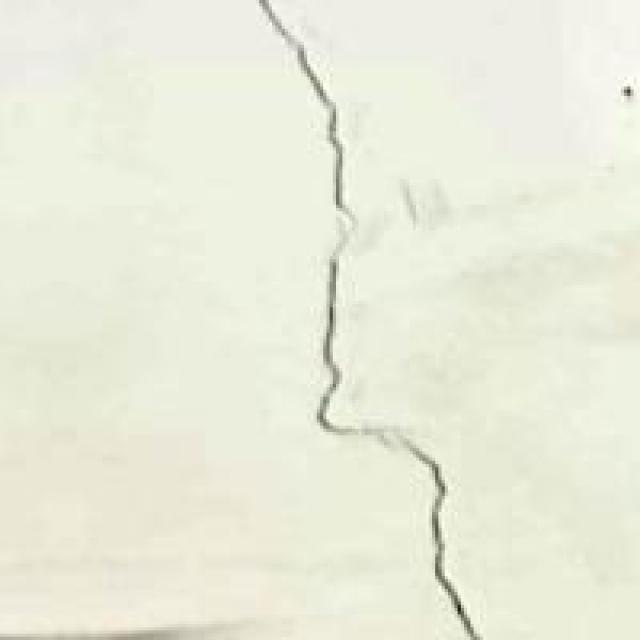crack: (250, 0, 496, 634)
